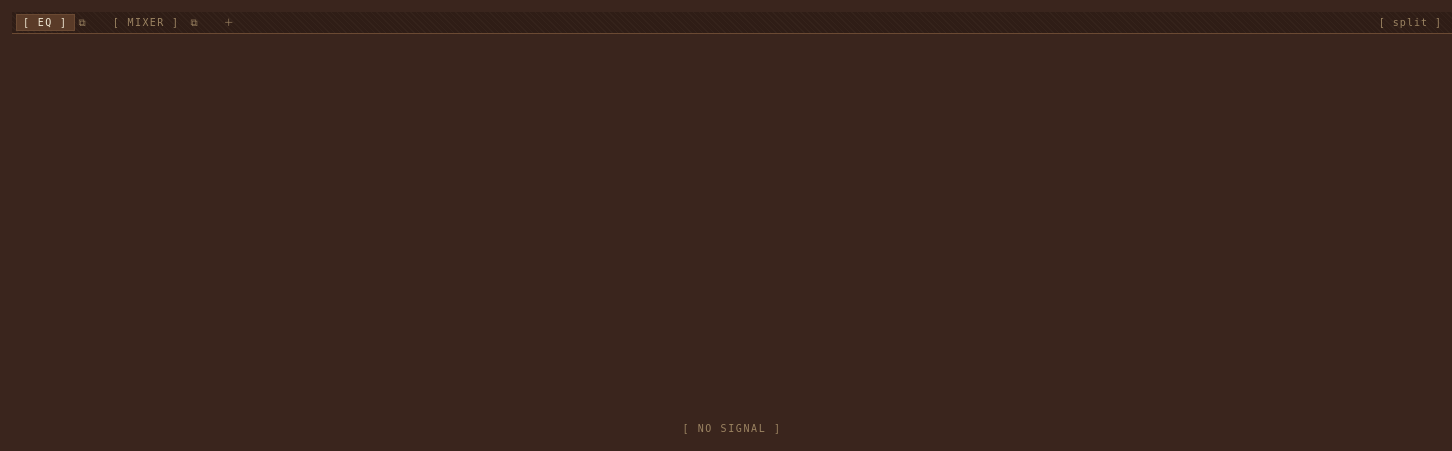
Test case: PluginDock › switches the visible plugin from the tab strip
This screenshot has width=1452, height=451.
Check: the text "[ no signal ]" is shown, box [682,422,782,434]
Click the button "[ MIXER ]": (146, 22) [106,14,186,31]
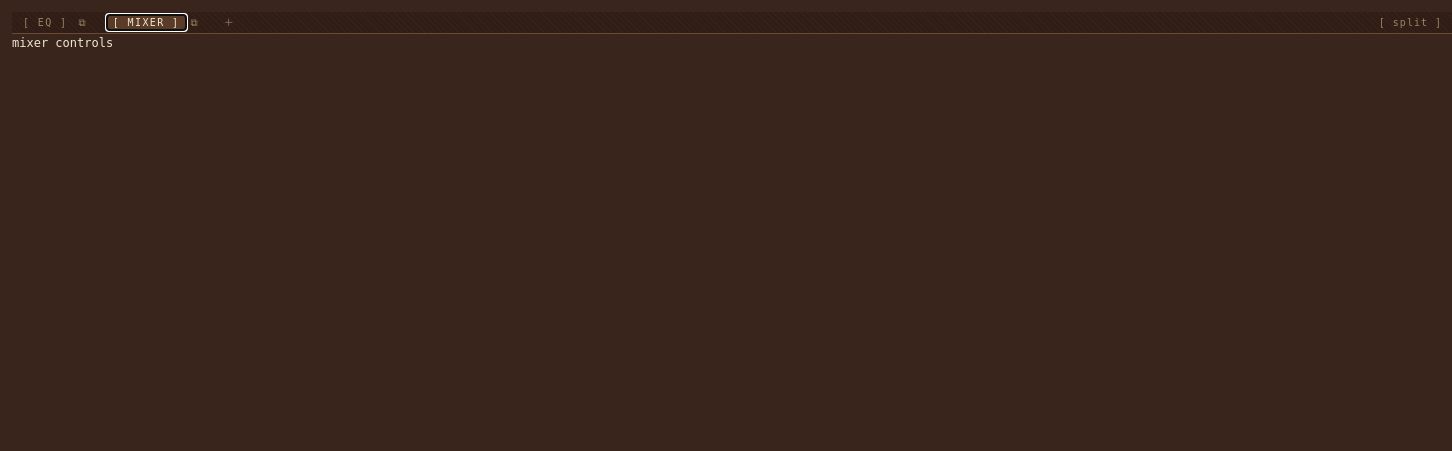
Check: the text "[ no signal ]" is not shown
Check: the text "mixer controls" is shown, box [12,36,113,50]
